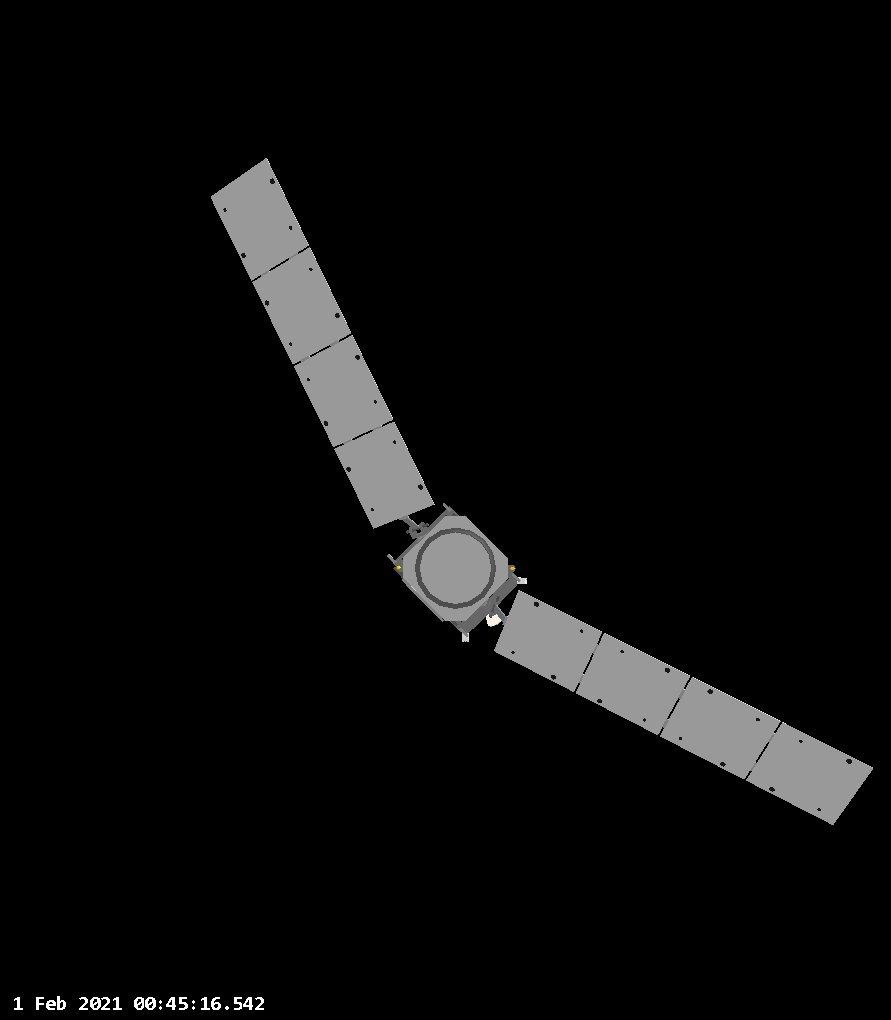body: (394, 506, 521, 639)
solar: (492, 586, 877, 828), (206, 154, 439, 532)
thruster: (486, 611, 502, 627), (515, 576, 528, 584), (462, 631, 470, 642)
